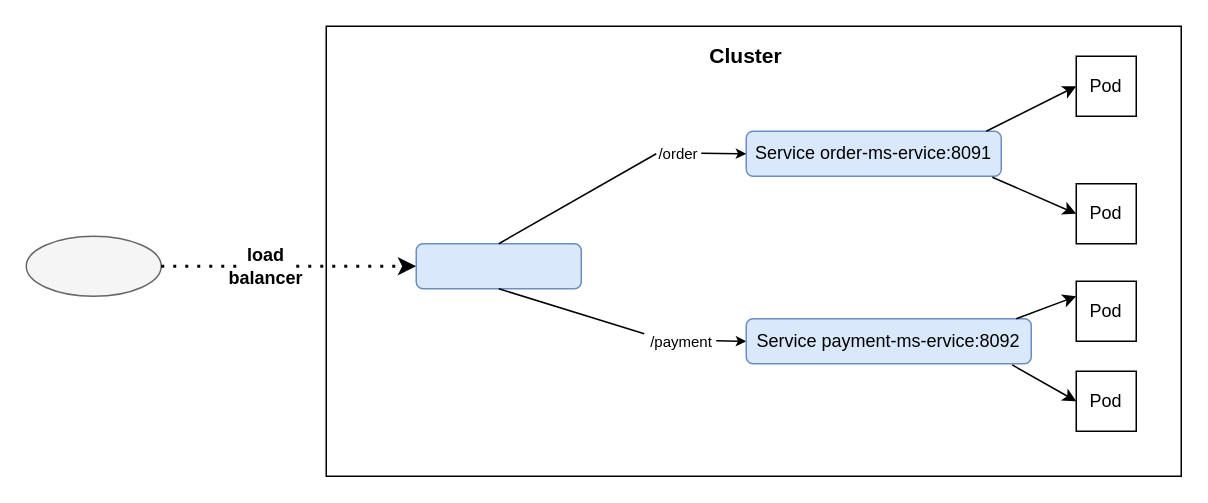
This 1208x503 diagram has some shape labels left out. The shapes that lost their labels are listed below. From the top down, each one's centre as x and y in pixels, then its label:
the point at 93,265: Client
the point at 498,265: Ingress, localhost
